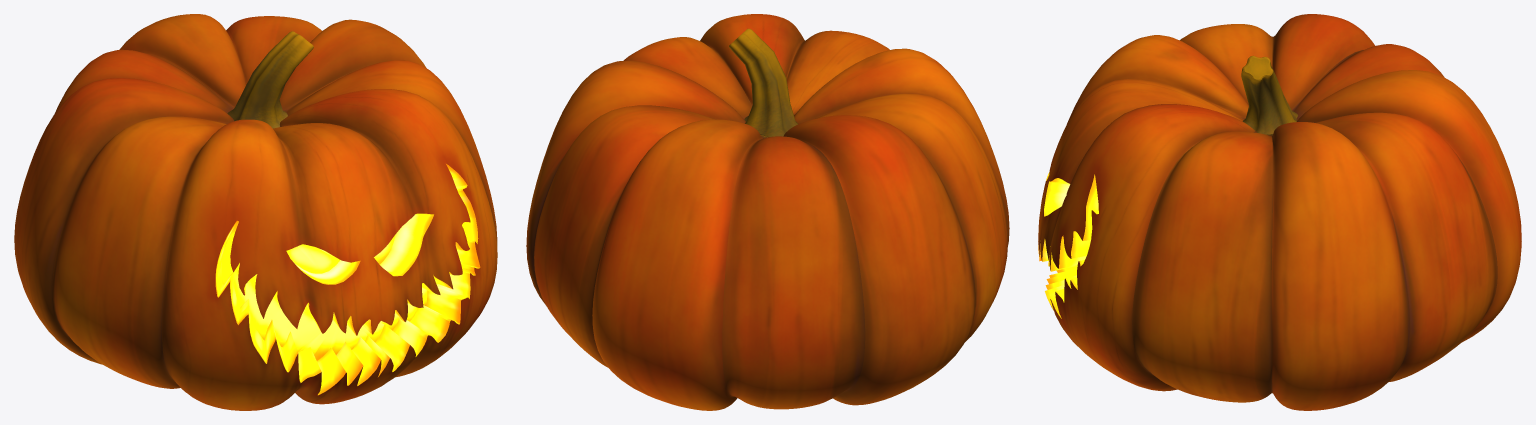
The model's file is Pumpkin.fbx.
3 renders of one model, left to right at view 1: azimuth 30°, elevation 25°; view 2: azimuth 150°, elevation 25°; view 3: azimuth 270°, elevation 25°, orthographic.
Parts seen in each view (by area): view 1: Pumpkin; view 2: Pumpkin; view 3: Pumpkin.
Part boxes in pixels (box(x1,y1,x2,y2)): Pumpkin: box(14, 14, 497, 410); Pumpkin: box(526, 14, 1009, 410); Pumpkin: box(1038, 14, 1521, 410).
Size of the model in its own units: 269 by 191 by 269.
1 material, 1 textured.
